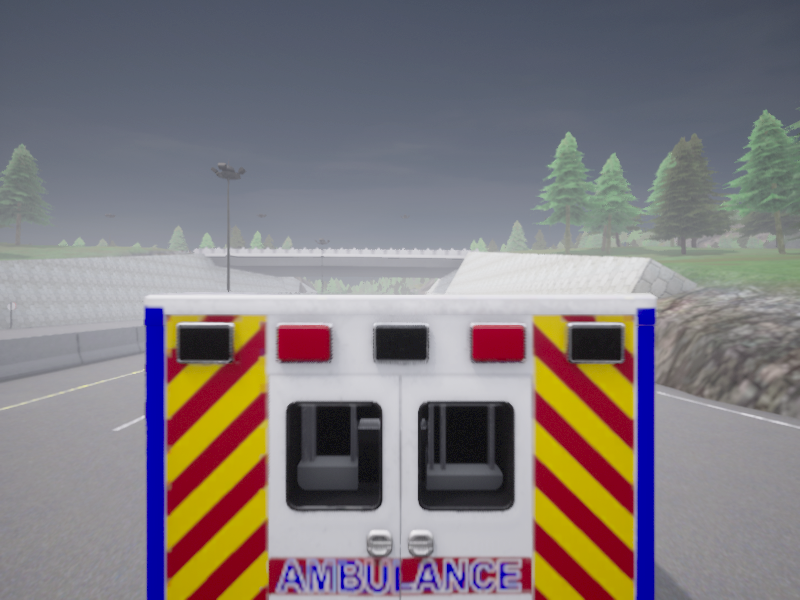vehicle: (144, 295, 656, 599), (183, 293, 288, 294)
